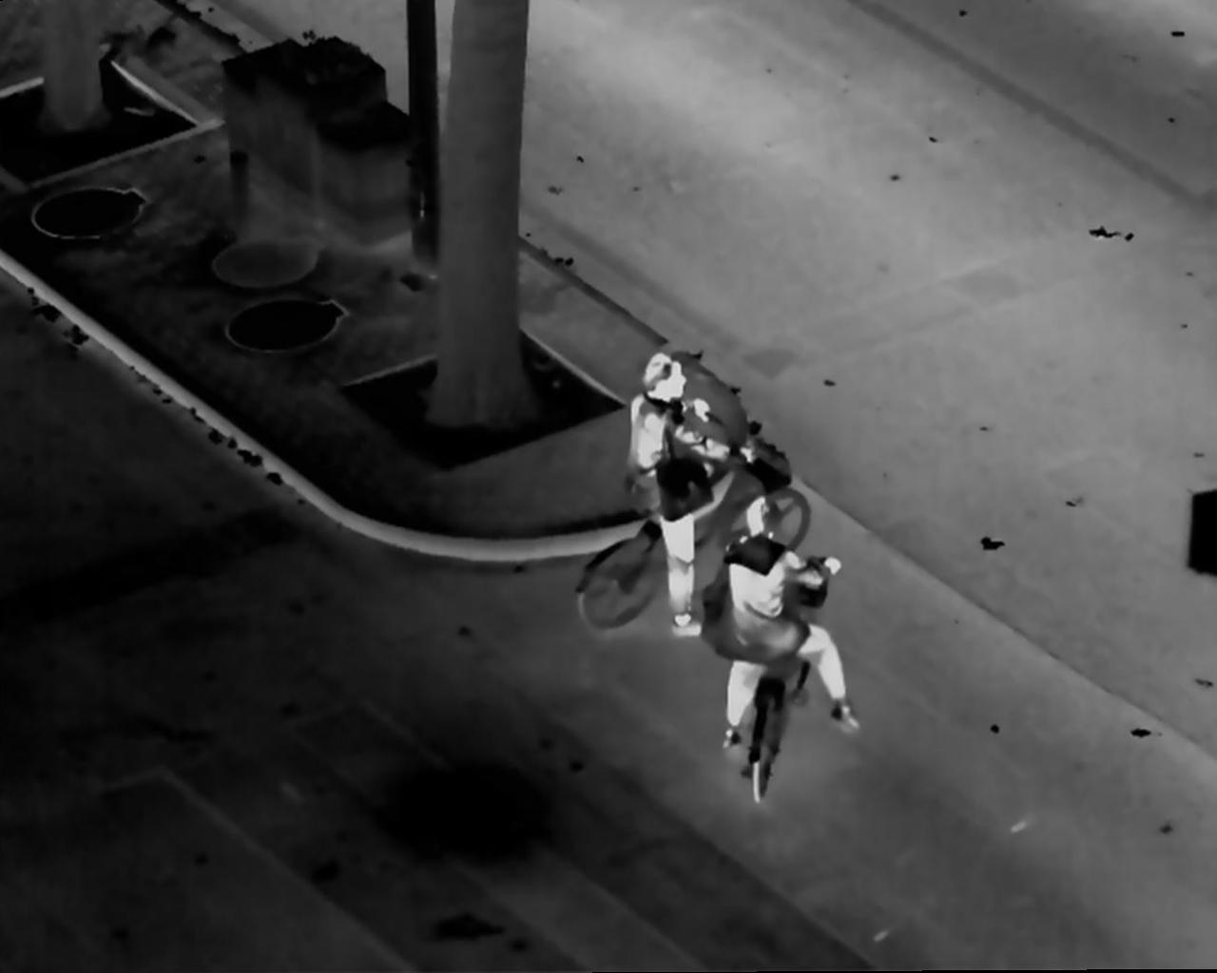person: (728, 480, 864, 785), (622, 349, 728, 644)
